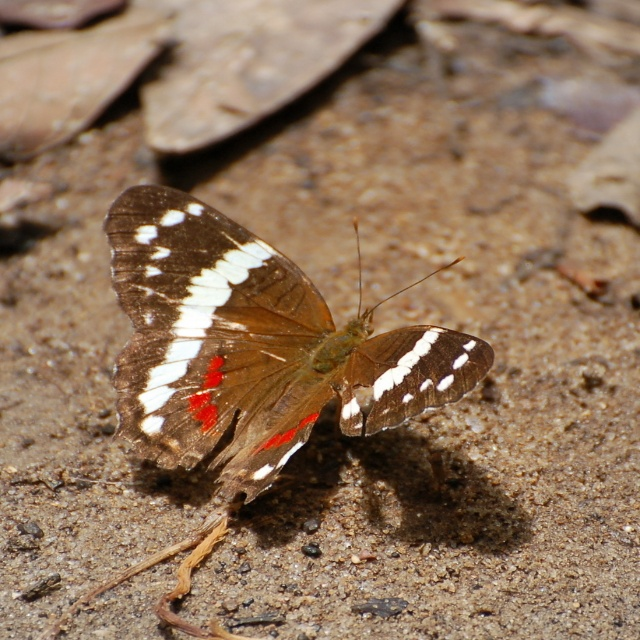Butterfly: (110, 162, 486, 520)
